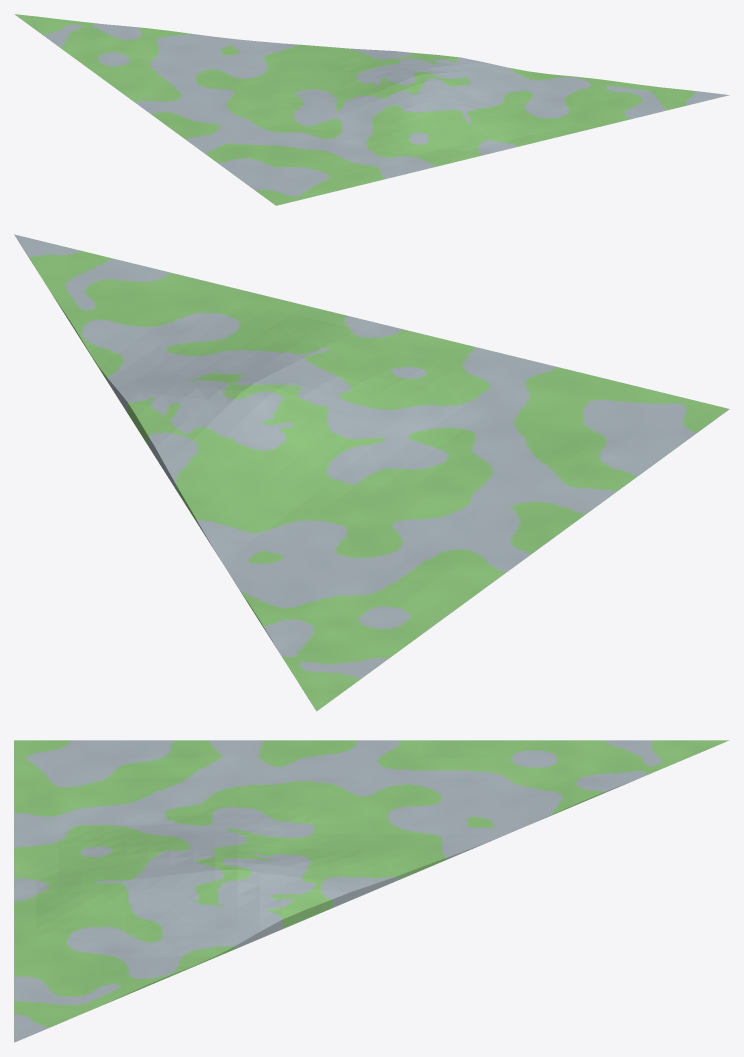
Rendered from Grass_RockyGround_04_NW.obj.
3 views of the same model, one above another, from view 1: azimuth 30°, elevation 25°; view 2: azimuth 150°, elevation 25°; view 3: azimuth 270°, elevation 25° (orthographic). The views are drawn at different scales.
Bounding box in the file's own units: 10 × 0.3353 × 10.
Materials: 1 (1 with a texture image).
